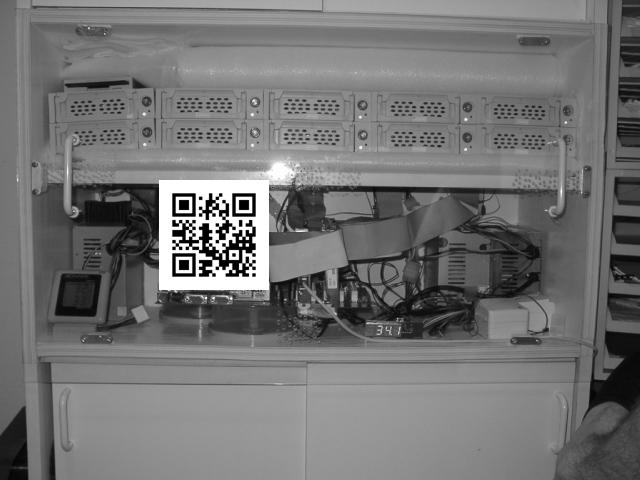qr_code: (160, 180, 268, 285)
